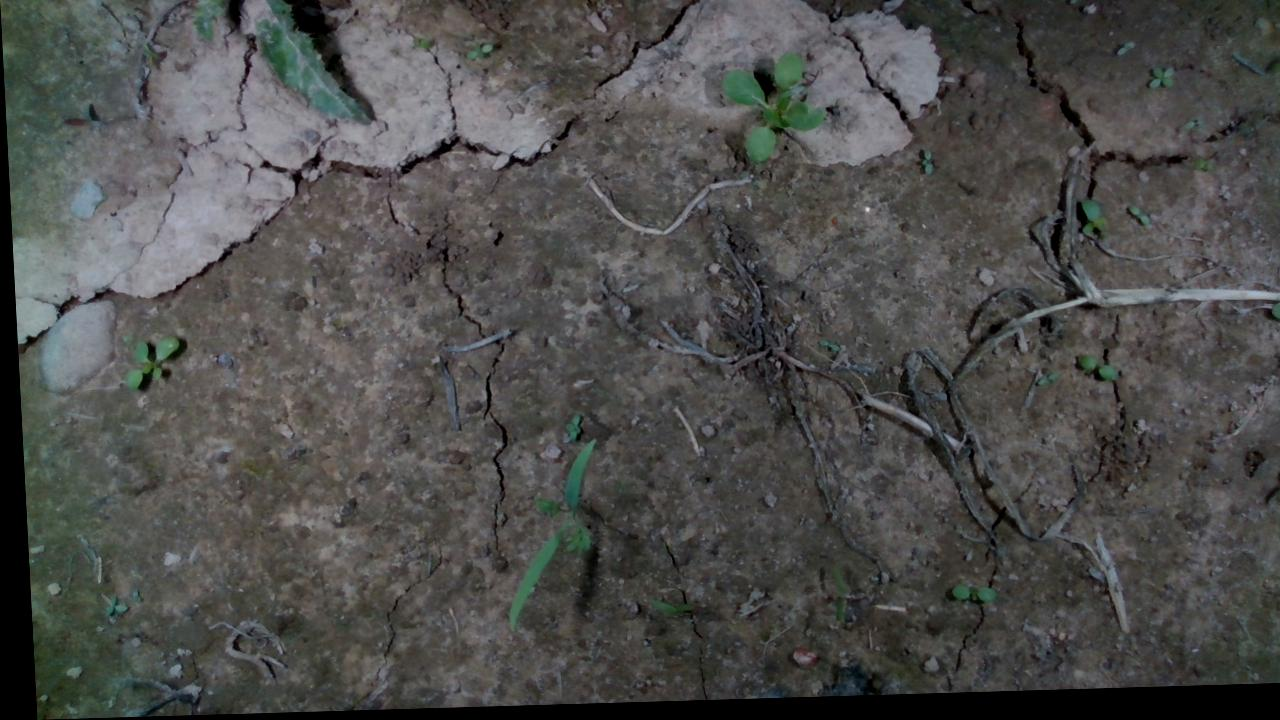weed: (116, 334, 181, 390), (1071, 351, 1121, 403), (938, 577, 995, 617), (1069, 195, 1108, 251), (1116, 200, 1150, 241), (1145, 67, 1173, 106), (913, 147, 942, 182), (557, 415, 578, 442)
